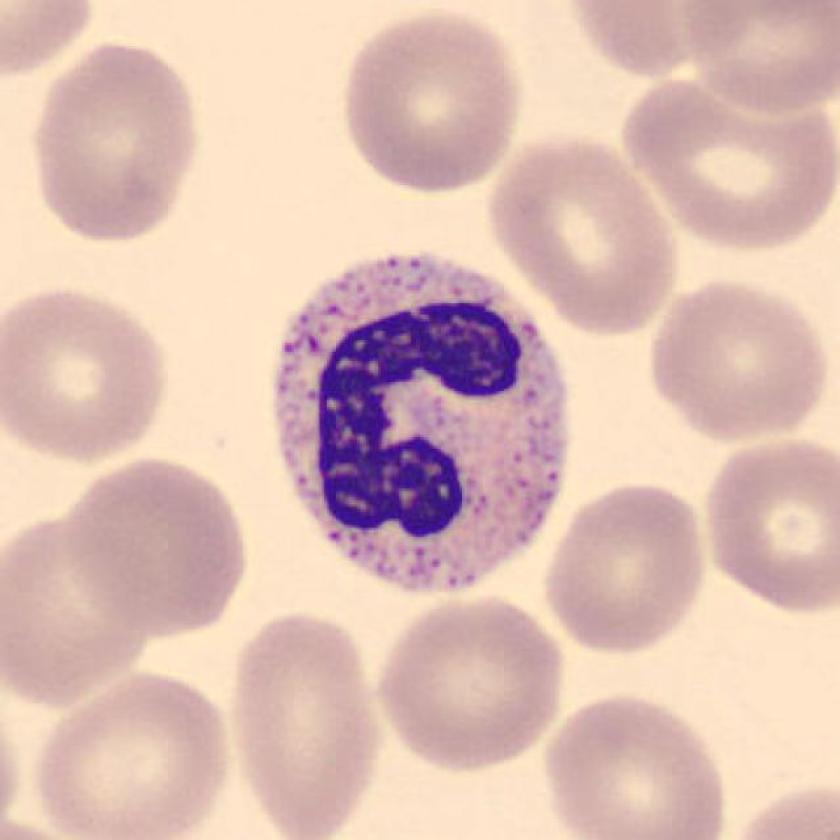neutrophil: (275, 253, 568, 590)
